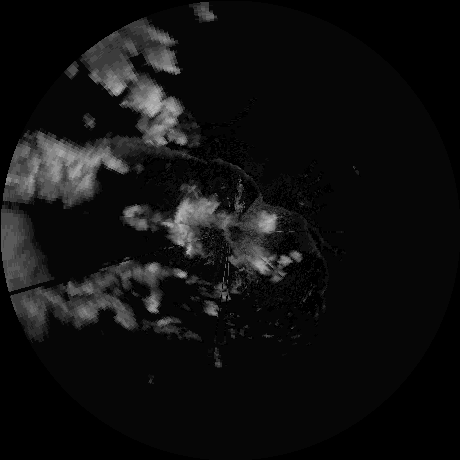frontgust: (169, 147, 262, 195), (267, 203, 319, 256)
